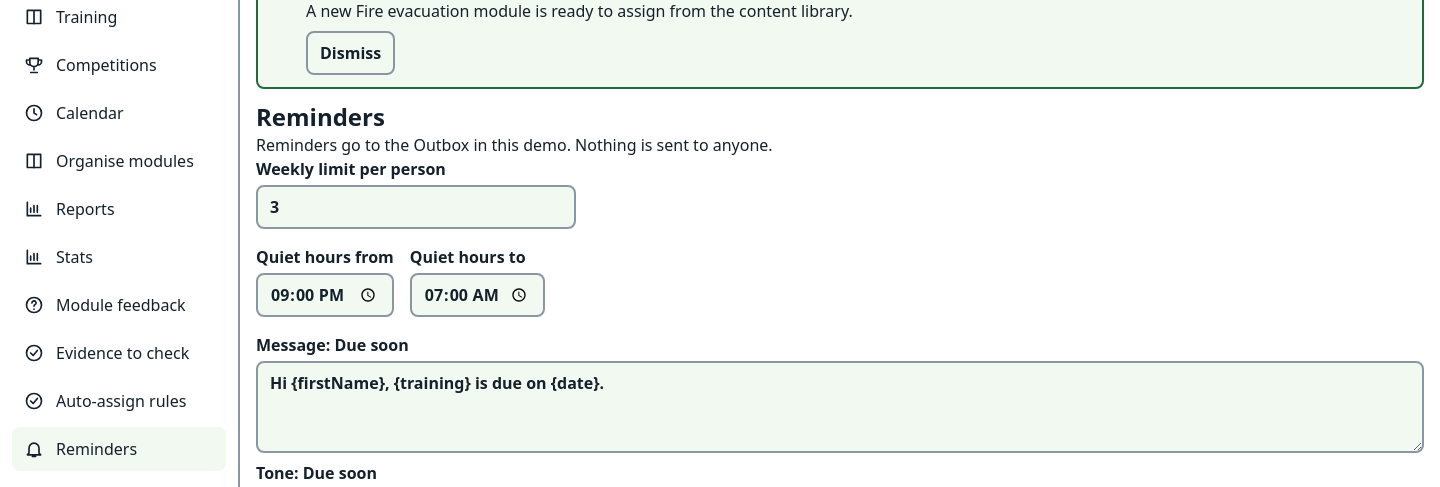
Test: C16 Reminders › refuses a negative weekly limit and stores nothing
The width and height of the screenshot is (1440, 487).
Replace the text in the number field labelled "Weekly limit per person" with "-1" at x=416, y=207, box [256,185,576,229]
(page scrolled)
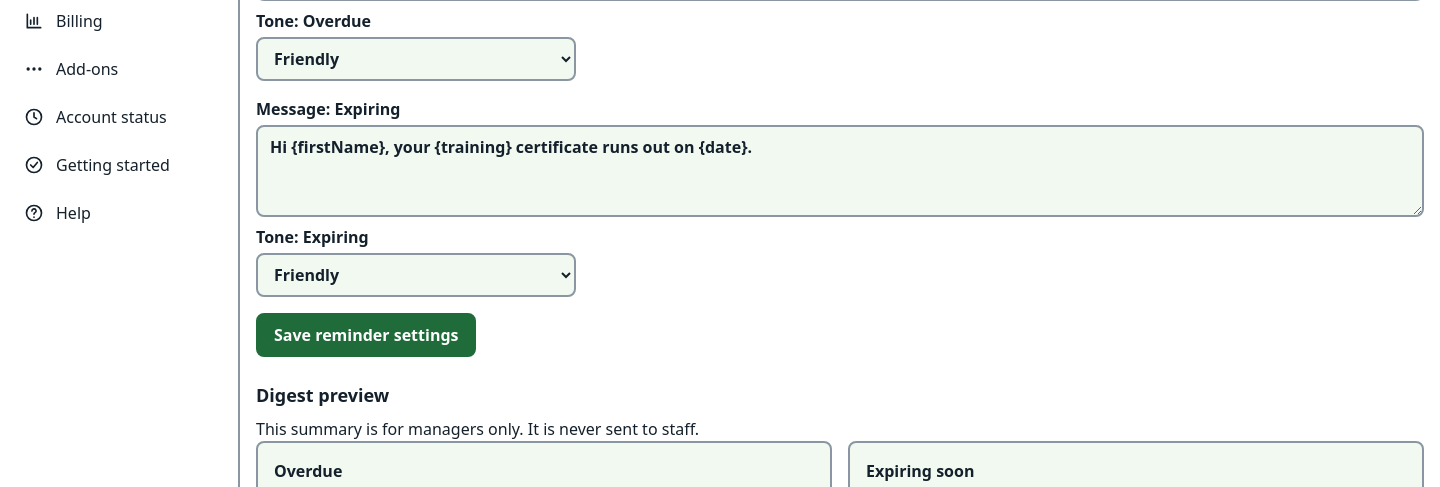
Click the button "Save reminder settings" at x=366, y=335, box [256,313,476,357]
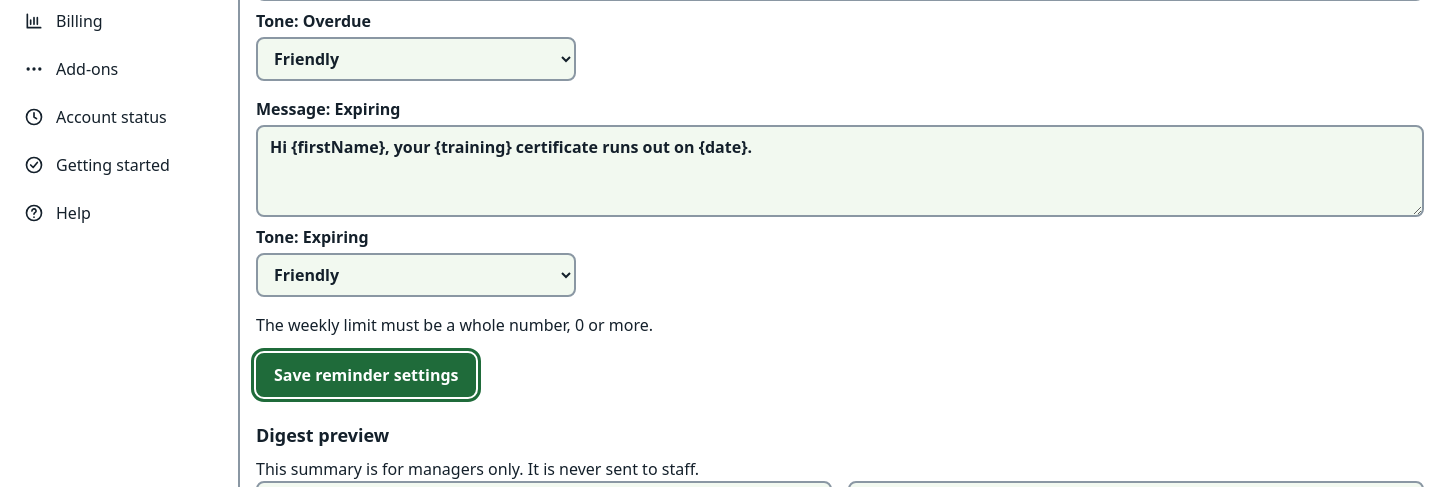
Expected: the message "The weekly limit must be a whole number, 0 or more." is shown, [256,314,653,336]
